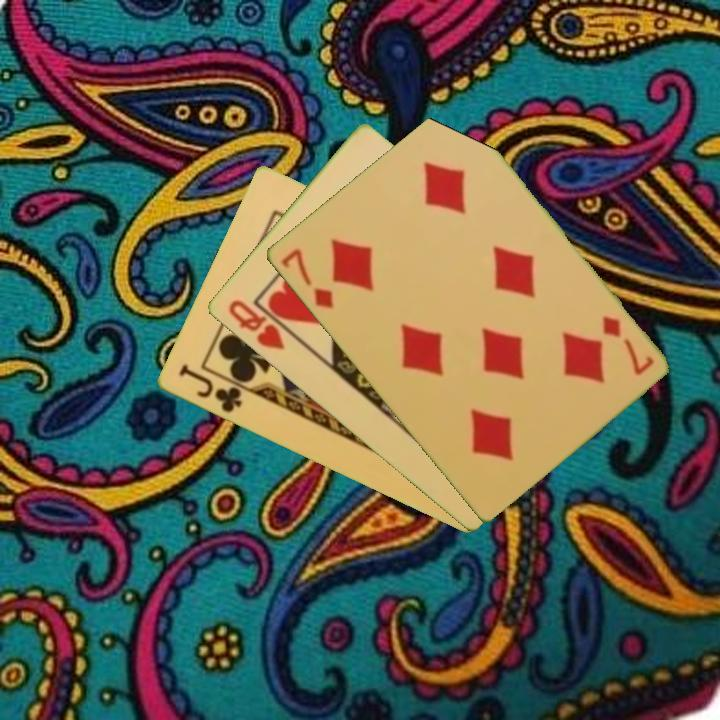7d: (276, 244, 336, 312), (598, 311, 657, 378)
Jc: (174, 361, 245, 416)
Qh: (224, 296, 288, 353)
